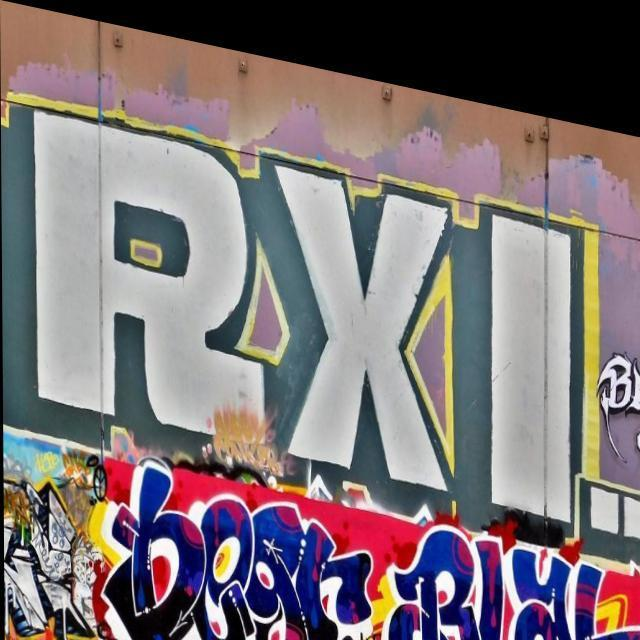-: (0, 74, 640, 544), (92, 445, 640, 640), (2, 435, 96, 640), (593, 302, 640, 456)
